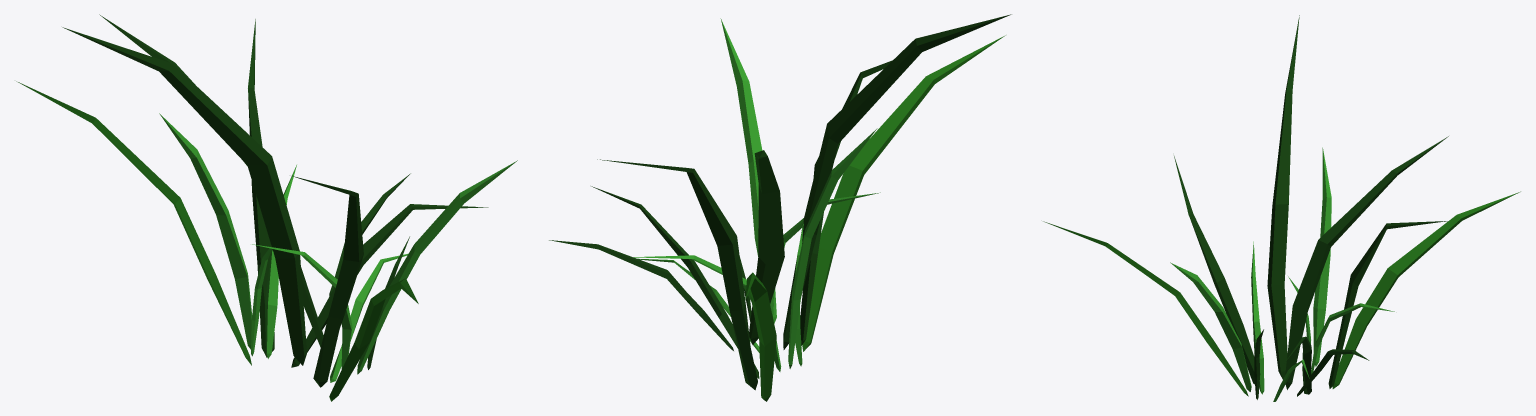
The model's file is GrassPatch_01_1.FBX.
The picture shows the model from 3 angles, left to right: view 1: azimuth 30°, elevation 25°; view 2: azimuth 150°, elevation 25°; view 3: azimuth 270°, elevation 25°; orthographic projection. The views are drawn at different scales.
Visible parts, largest first — view 1: Grass016, Grass015, Grass020, Grass021, Grass013, Grass023, Grass012, Grass019, Grass018, Grass014, Grass011, Grass010 (+2 smaller); view 2: Grass012, Grass016, Grass023, Grass014, Grass013, Grass021, Grass020, Grass019, Grass015, Grass022, Grass018, Grass010; view 3: Grass016, Grass014, Grass020, Grass015, Grass021, Grass023, Grass012, Grass013, Grass010, Grass018, Grass019, Grass022.
Part boxes in pixels (left/top/right/bottom): Grass016: left=62, top=27, right=306, bottom=365; Grass015: left=292, top=176, right=363, bottom=387; Grass020: left=16, top=81, right=251, bottom=365; Grass021: left=159, top=113, right=252, bottom=349; Grass013: left=357, top=160, right=517, bottom=374; Grass023: left=248, top=19, right=274, bottom=357; Grass012: left=329, top=278, right=418, bottom=401; Grass019: left=291, top=204, right=488, bottom=367; Grass018: left=265, top=165, right=296, bottom=358; Grass014: left=99, top=14, right=323, bottom=347; Grass011: left=330, top=253, right=408, bottom=382; Grass010: left=252, top=244, right=352, bottom=369; Grass012: left=802, top=35, right=1005, bottom=351; Grass016: left=783, top=14, right=1011, bottom=349; Grass023: left=597, top=159, right=757, bottom=390; Grass014: left=749, top=150, right=784, bottom=344; Grass013: left=720, top=18, right=776, bottom=323; Grass021: left=788, top=128, right=877, bottom=368; Grass020: left=745, top=272, right=776, bottom=401; Grass019: left=591, top=186, right=759, bottom=378; Grass015: left=800, top=60, right=892, bottom=345; Grass022: left=549, top=240, right=733, bottom=350; Grass018: left=633, top=255, right=781, bottom=371; Grass010: left=770, top=192, right=880, bottom=316; Grass016: left=1267, top=15, right=1299, bottom=379; Grass014: left=1285, top=136, right=1448, bottom=389; Grass020: left=1332, top=191, right=1520, bottom=388; Grass015: left=1174, top=156, right=1254, bottom=384; Grass021: left=1313, top=147, right=1331, bottom=366; Grass023: left=1328, top=221, right=1447, bottom=388; Grass012: left=1043, top=221, right=1248, bottom=396; Grass013: left=1170, top=262, right=1251, bottom=391; Grass010: left=1251, top=241, right=1264, bottom=394; Grass018: left=1311, top=303, right=1394, bottom=374; Grass019: left=1284, top=336, right=1311, bottom=394; Grass022: left=1297, top=349, right=1369, bottom=396.
Size of the model in its own units: 6.82 by 6.36 by 9.27.
